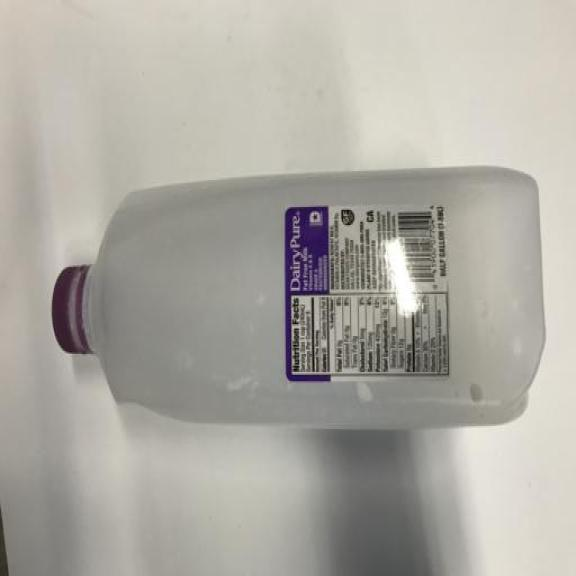Plastik: (47, 152, 556, 427)
